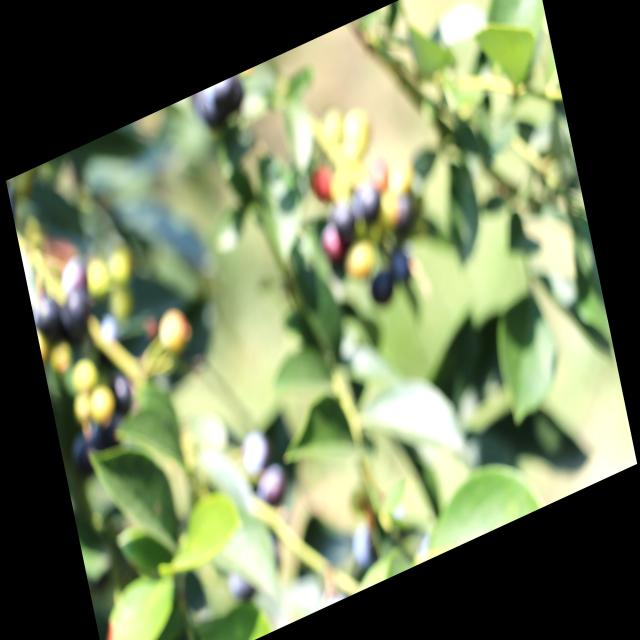blueberry: (255, 458, 292, 509), (351, 177, 386, 225), (331, 198, 356, 245)
blueberry-unripe: (150, 296, 198, 364), (84, 379, 119, 432), (344, 237, 376, 284), (70, 352, 102, 398)
